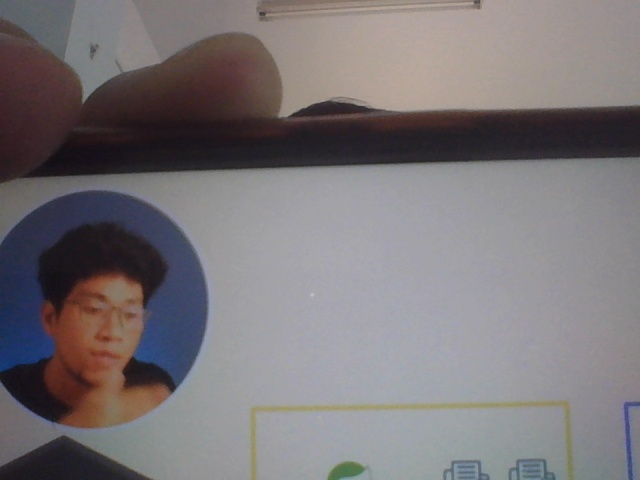fake: (38, 220, 171, 408)
